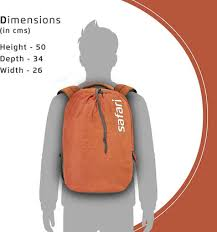backpack: (57, 82, 137, 193)
